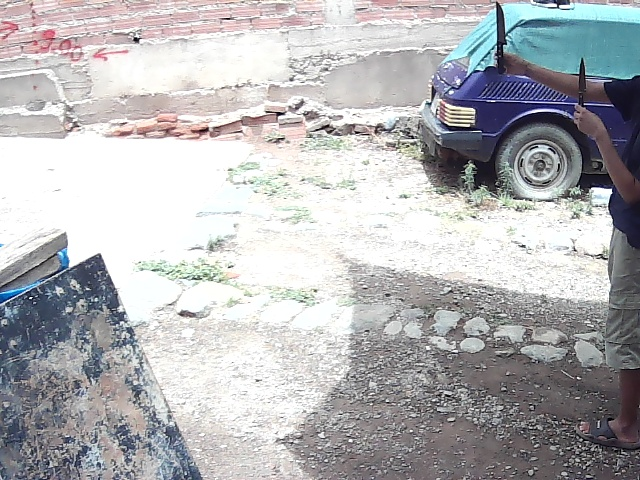cuchillo: (487, 0, 514, 73)
